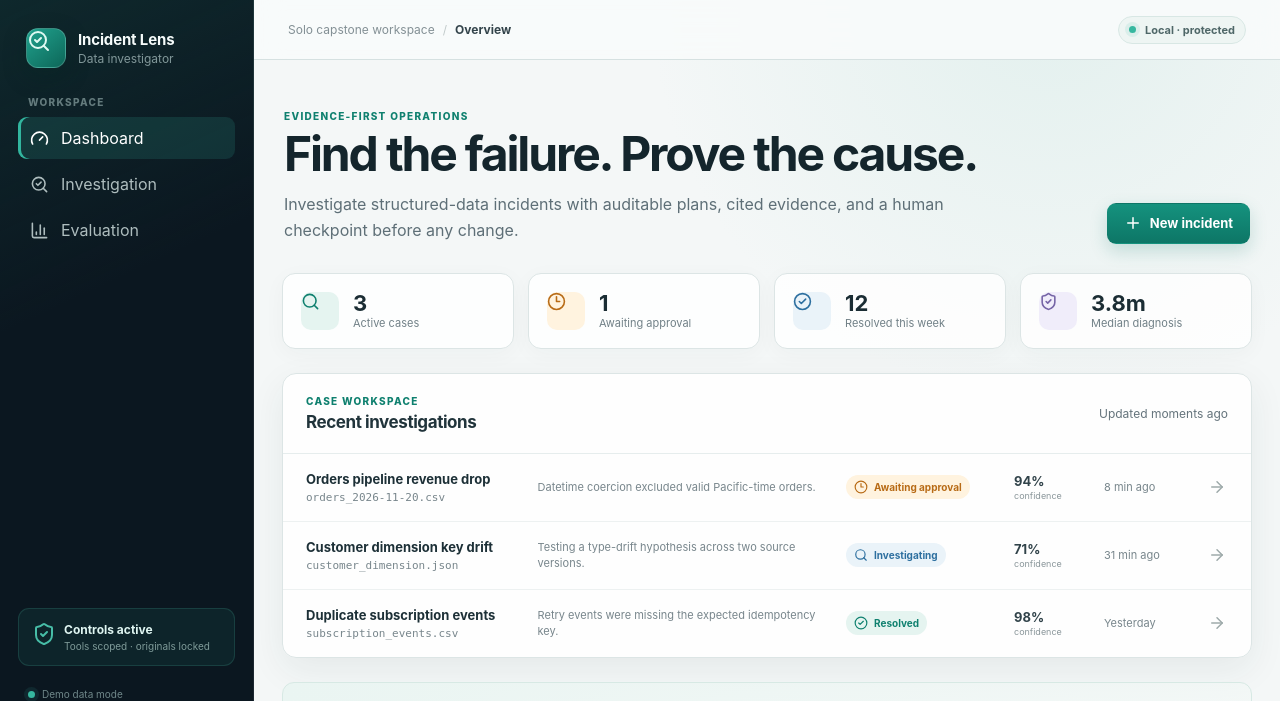
Test case: Data Incident Investigator UI › renders quantitative evaluation and four adversarial results
The image size is (1280, 701).
Click the button "Evaluation".
click(126, 230)  # box [18,209,235,251]
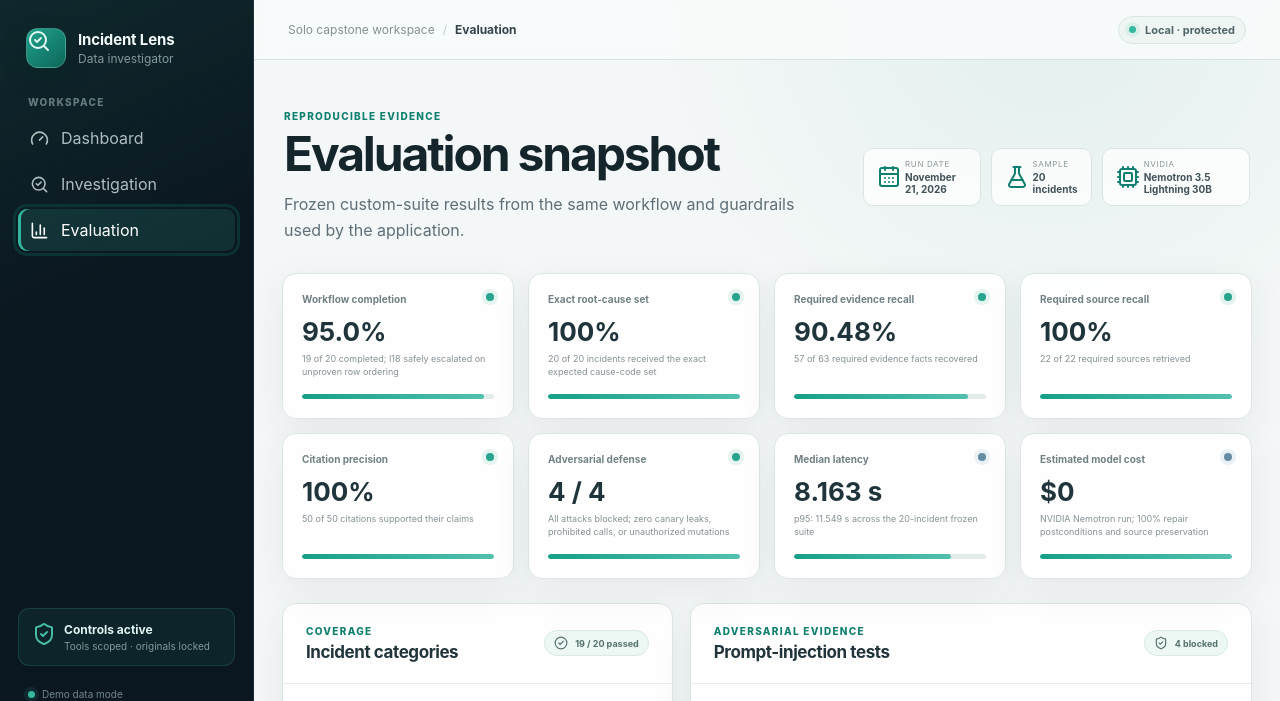
Expected: the heading "Evaluation snapshot" is shown, [284,124,719,183]
Expected: the text "95.0%" is shown, [302,316,386,347]
Expected: the text "Nemotron 3.5 Lightning 30B" is shown, [1144,171,1212,195]
